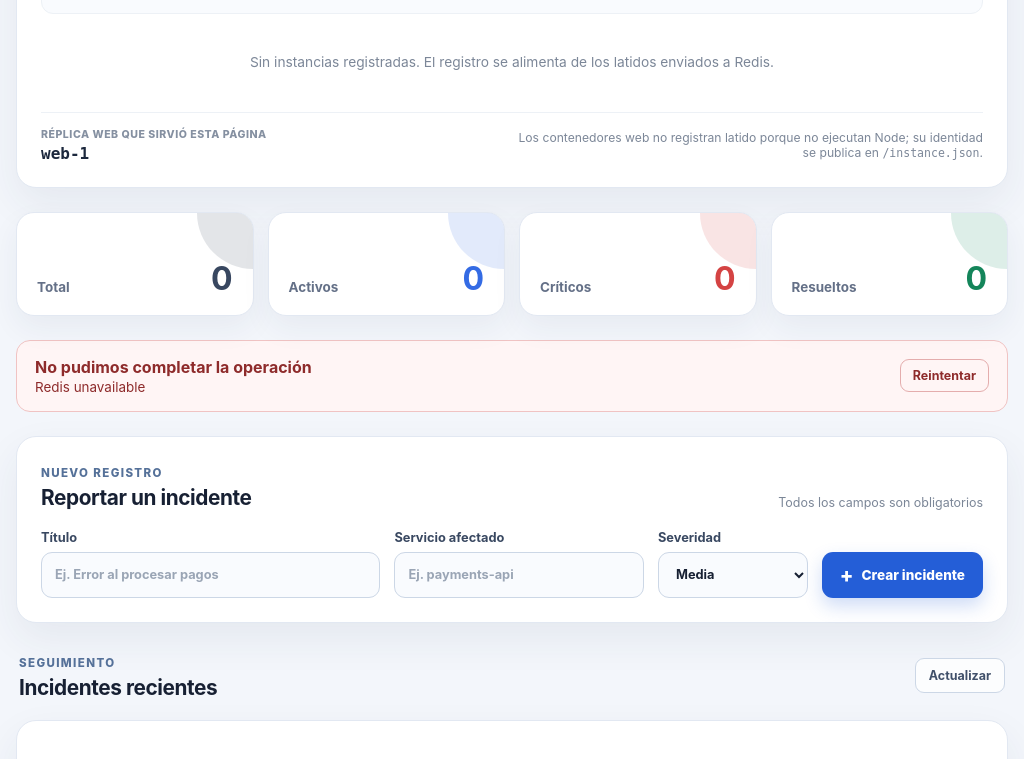
Test: OpsBoard › shows the backend error and can retry the request
(page scrolled)
Check: the text "Redis unavailable" is shown, box [35,379,145,395]
Click the button "Reintentar".
click(944, 376)  # box [900,359,989,392]
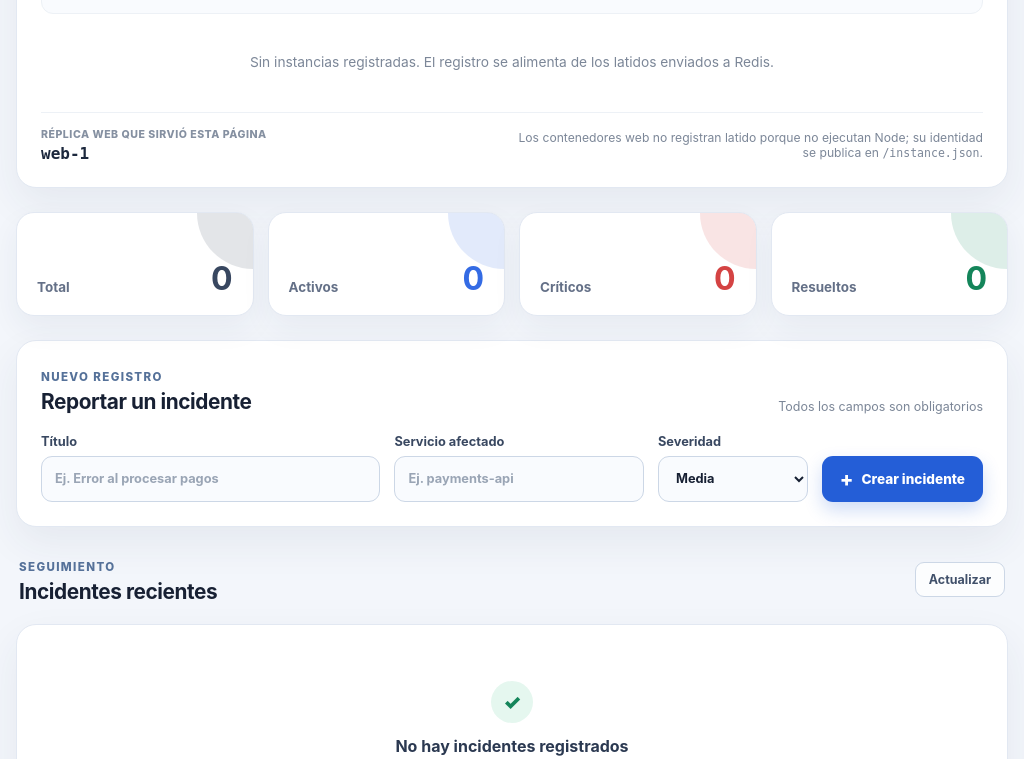
Check: the text "Redis unavailable" is gone
